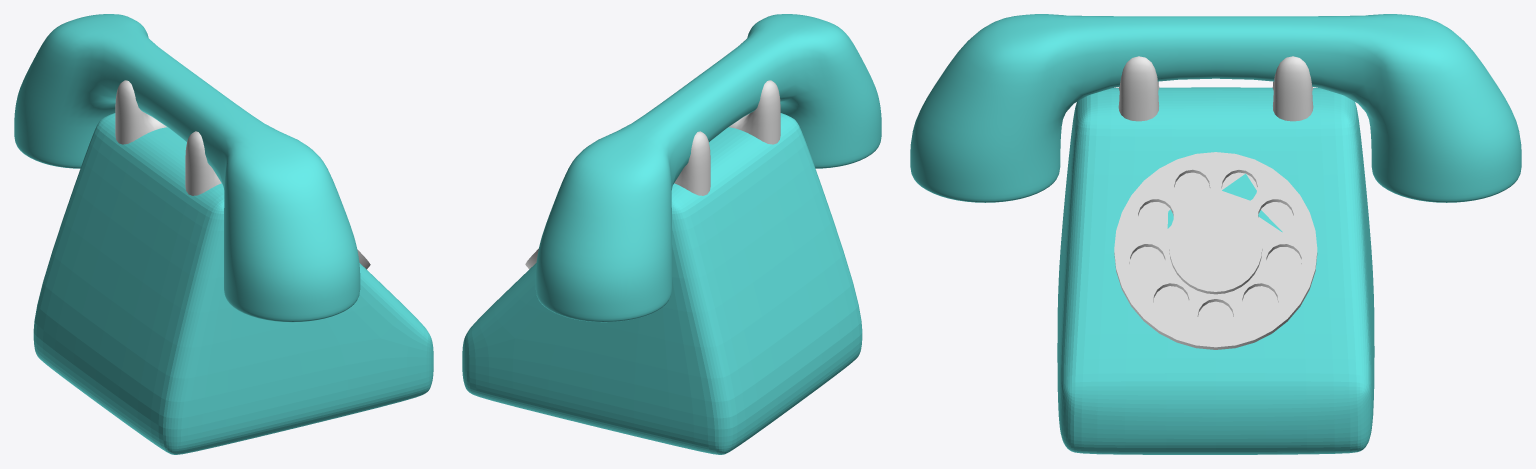
Rendered from phone.fbx.
The picture shows the model from 3 angles, left to right: view 1: azimuth 30°, elevation 25°; view 2: azimuth 150°, elevation 25°; view 3: azimuth 270°, elevation 25°; orthographic projection. The views are drawn at different scales.
Parts seen in each view (by area): view 1: Plane, Circle, Plane.001; view 2: Plane, Circle, Plane.001; view 3: Plane, Circle, Circle.001, Plane.001.
Boxes of the visible parts, box(x1,y1,x2,y2) form: Plane: box(33, 113, 433, 454); Circle: box(14, 14, 360, 322); Plane.001: box(115, 80, 221, 195); Plane: box(462, 113, 862, 454); Circle: box(535, 14, 881, 322); Plane.001: box(674, 80, 780, 195); Plane: box(1057, 87, 1374, 454); Circle: box(910, 14, 1521, 202); Circle.001: box(1114, 152, 1317, 349); Plane.001: box(1118, 56, 1313, 121).
Size of the model in its own units: 199 by 216 by 348.
